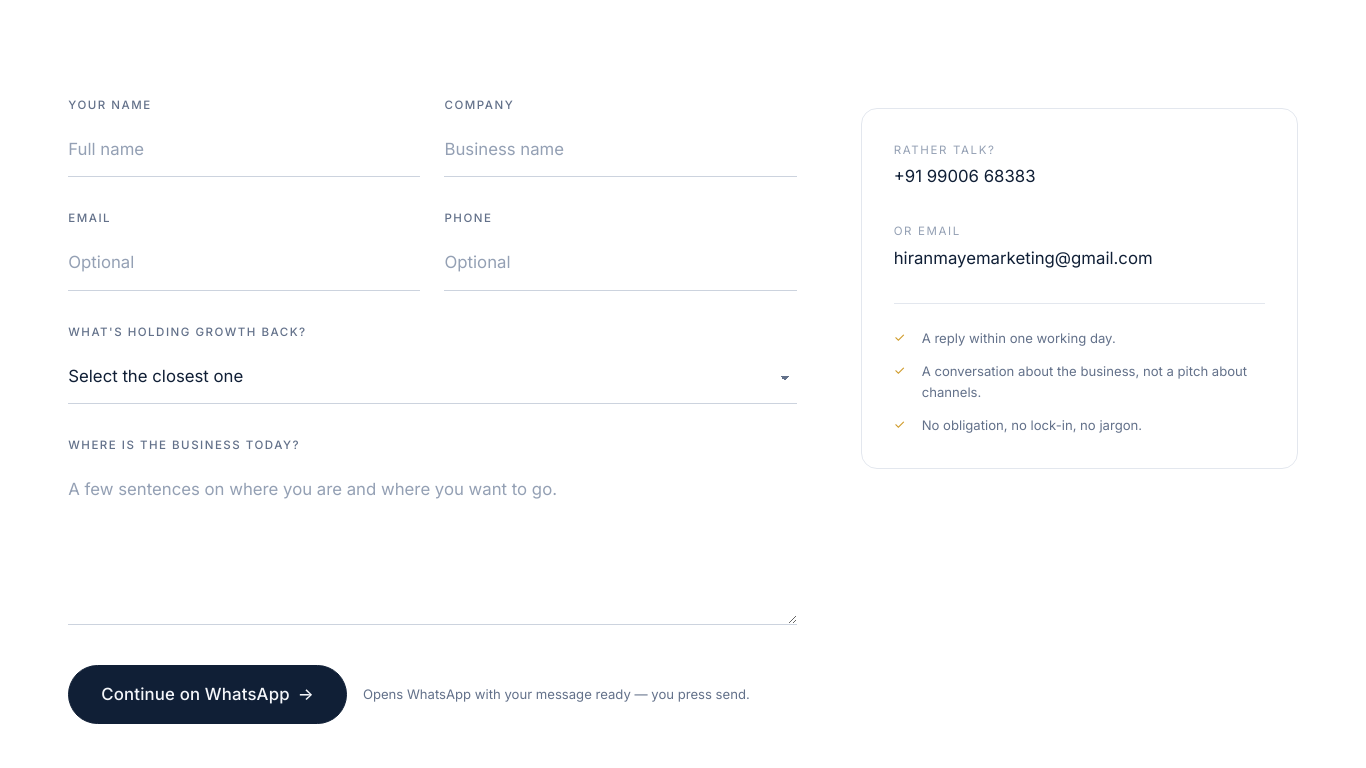
ContactForm › returns to the filled form on "Edit my message"
Type "Valan" into the field labelled "Your name" at (244, 150), box [68,122,420,177]
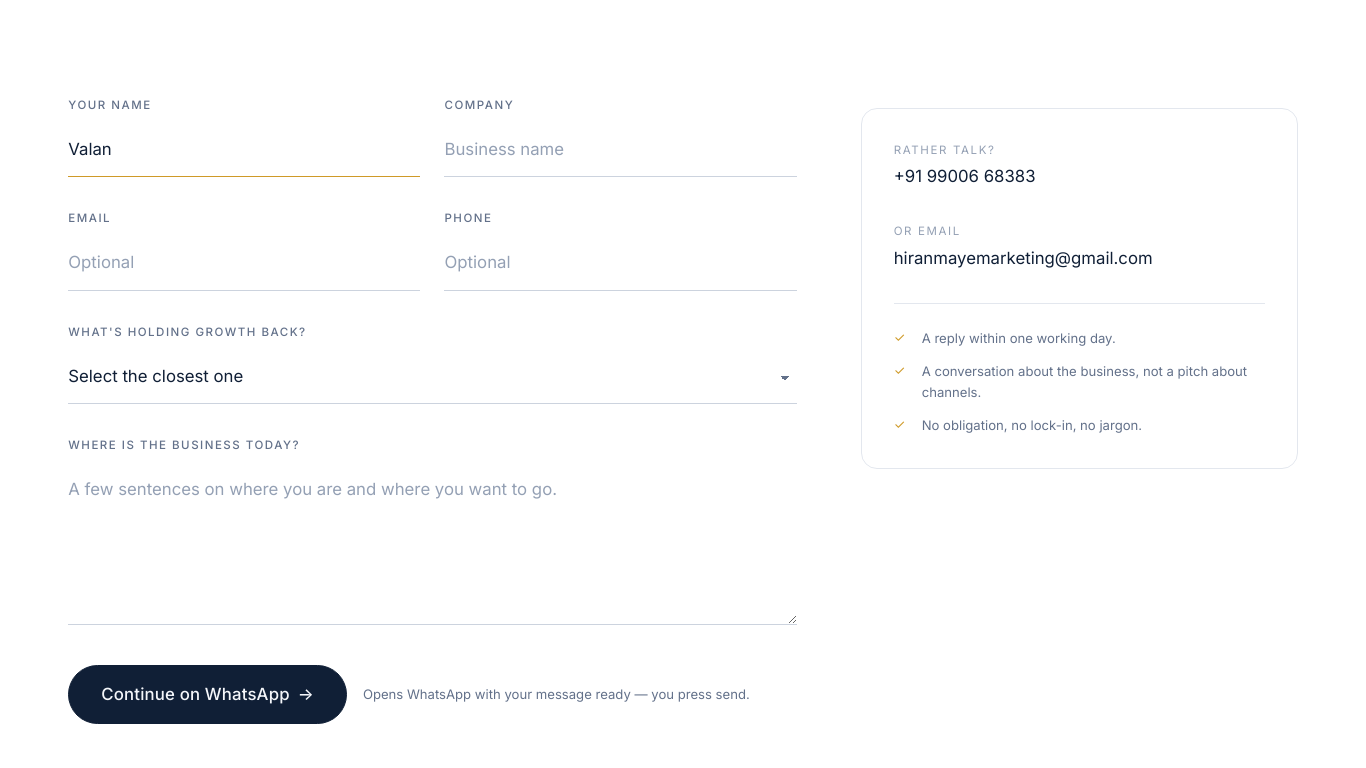
Type "Acme Foods" into the field labelled "Company" at (621, 150), box [444,122,797,177]
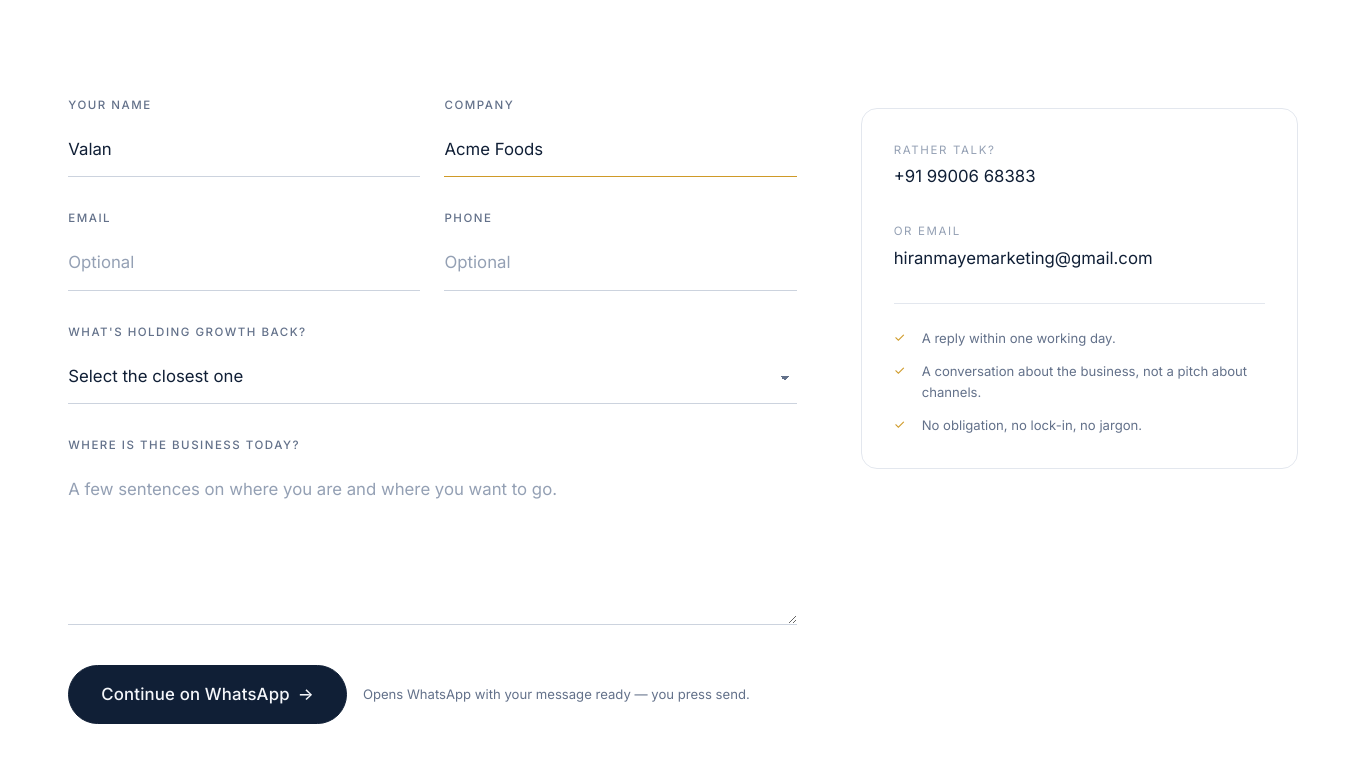
Type "Enquiries have flattened." into the text box labelled "Where is the business today?" at (432, 544), box [68,463,797,625]
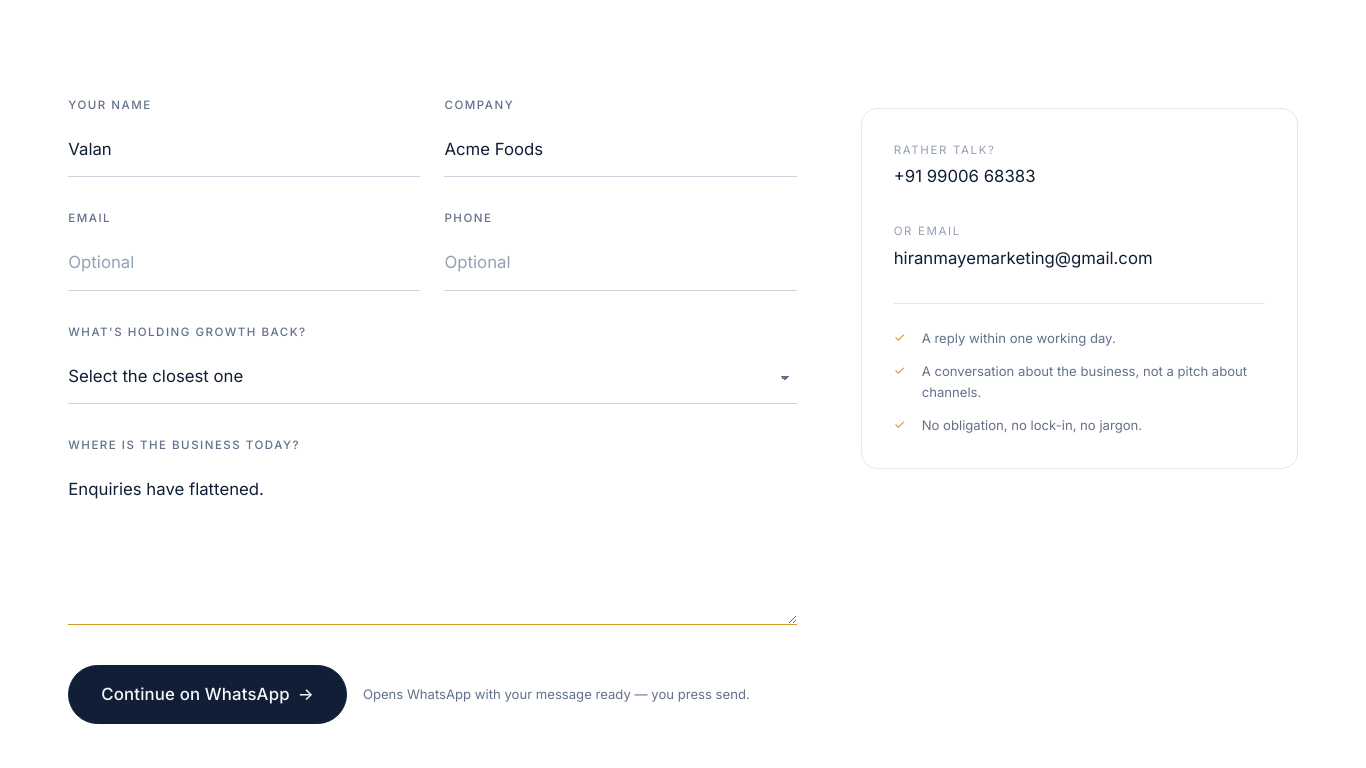
Click the button "Continue on WhatsApp →" at (208, 694), box [68,665,347,724]
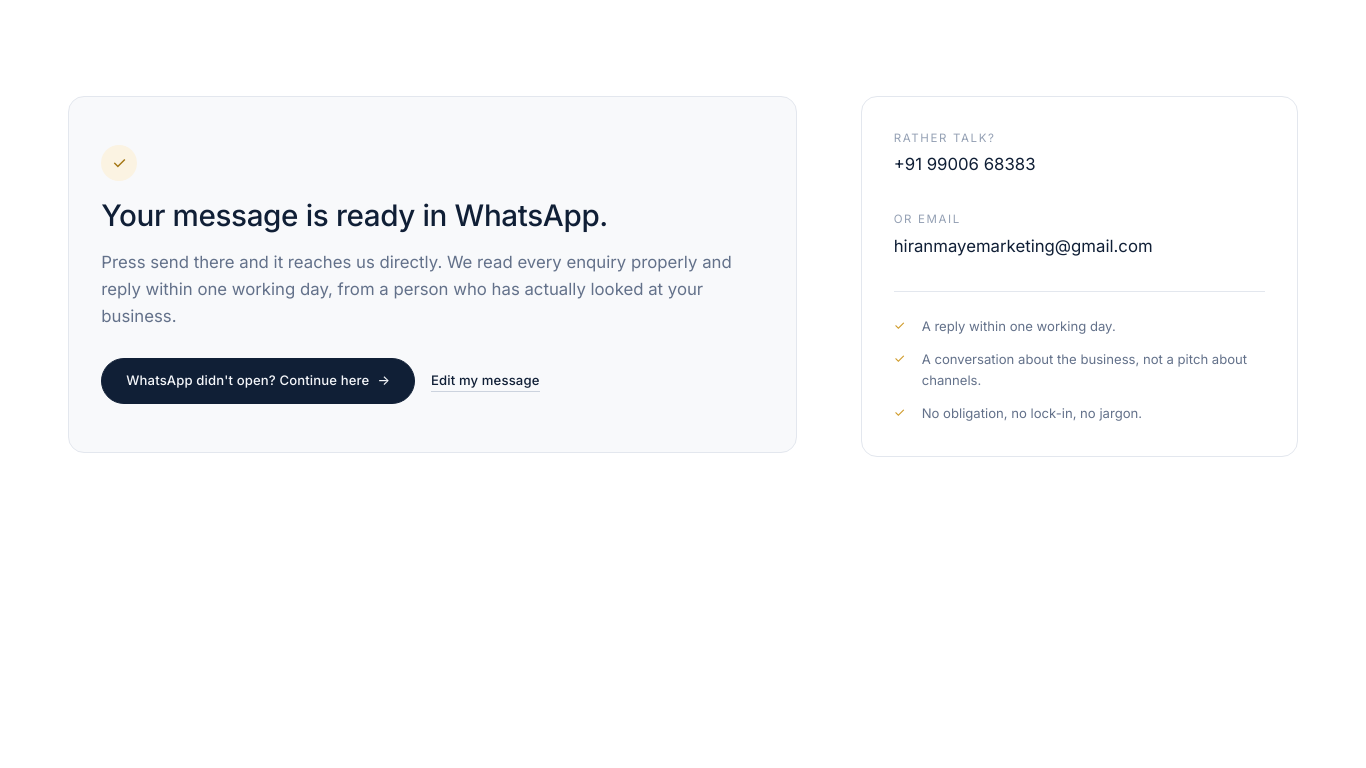
Click the button "Edit my message" at (485, 380), box [431,370,540,392]
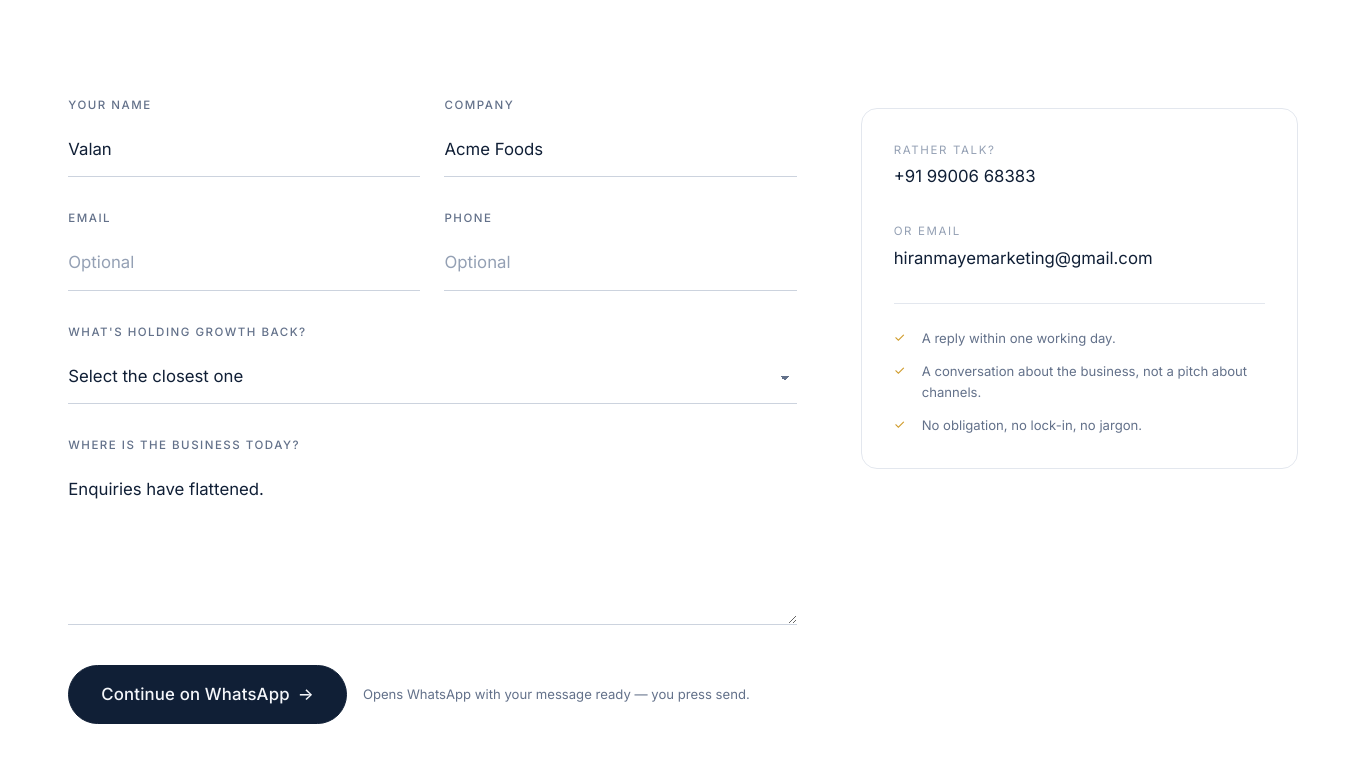
Check: the field labelled "Your name" holds "Valan", box [68,122,420,177]
